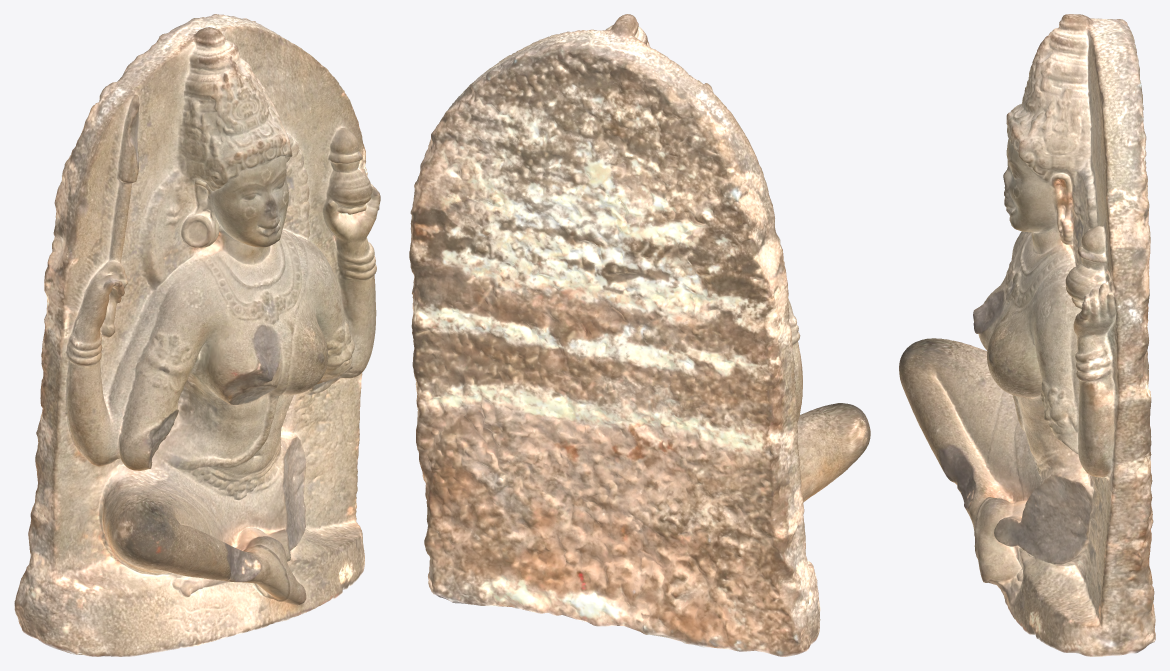
The model's file is preview.glb.
3 views of the same model, side by side, from view 1: azimuth 30°, elevation 25°; view 2: azimuth 150°, elevation 25°; view 3: azimuth 270°, elevation 25° (orthographic). The views are drawn at different scales.
Visible parts, largest first — view 1: Object_4; view 2: Object_4; view 3: Object_4.
Boxes of the visible parts, <box> form: Object_4: <box>14,14,380,656</box>; Object_4: <box>409,14,870,656</box>; Object_4: <box>899,14,1155,656</box>.
Size of the model in its own units: 0.748 by 1.14 by 0.4683.
Materials: 1 (1 with a texture image).
